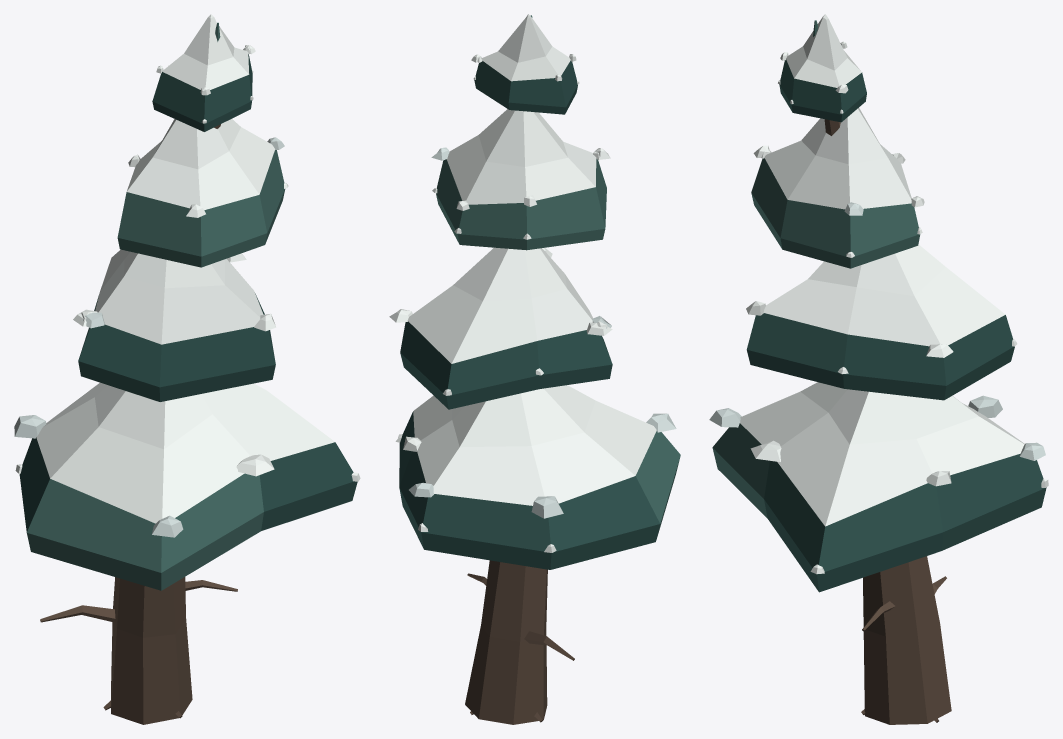
The model's file is pine_tree_b.glb.
3 views of the same model, side by side, from view 1: azimuth 30°, elevation 25°; view 2: azimuth 150°, elevation 25°; view 3: azimuth 270°, elevation 25° (orthographic). The views are drawn at different scales.
Parts seen in each view (by area): view 1: pine_tree_b; view 2: pine_tree_b; view 3: pine_tree_b.
Part boxes in pixels (box(x1,y1,x2,y2)): pine_tree_b: box(14, 14, 360, 724); pine_tree_b: box(389, 14, 680, 724); pine_tree_b: box(709, 14, 1048, 724).
Size of the model in its own units: 2.7 by 6 by 2.6.
